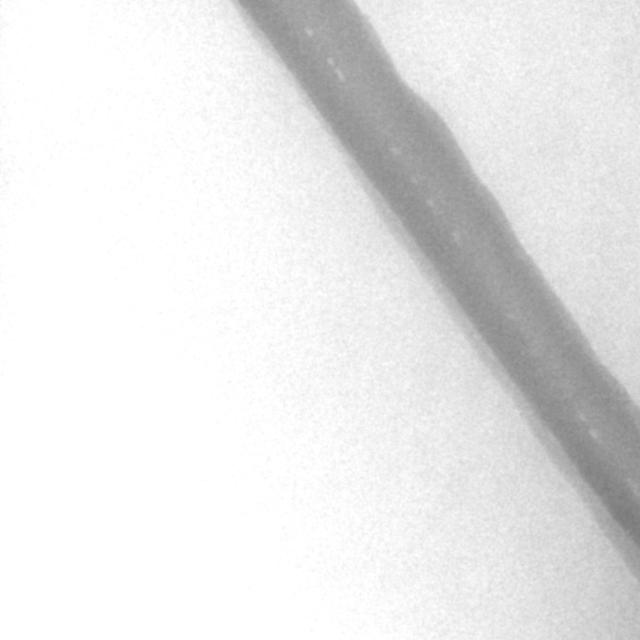air hole: (586, 425, 600, 443), (575, 407, 586, 423), (335, 67, 346, 82), (302, 24, 313, 37), (325, 55, 335, 67)
